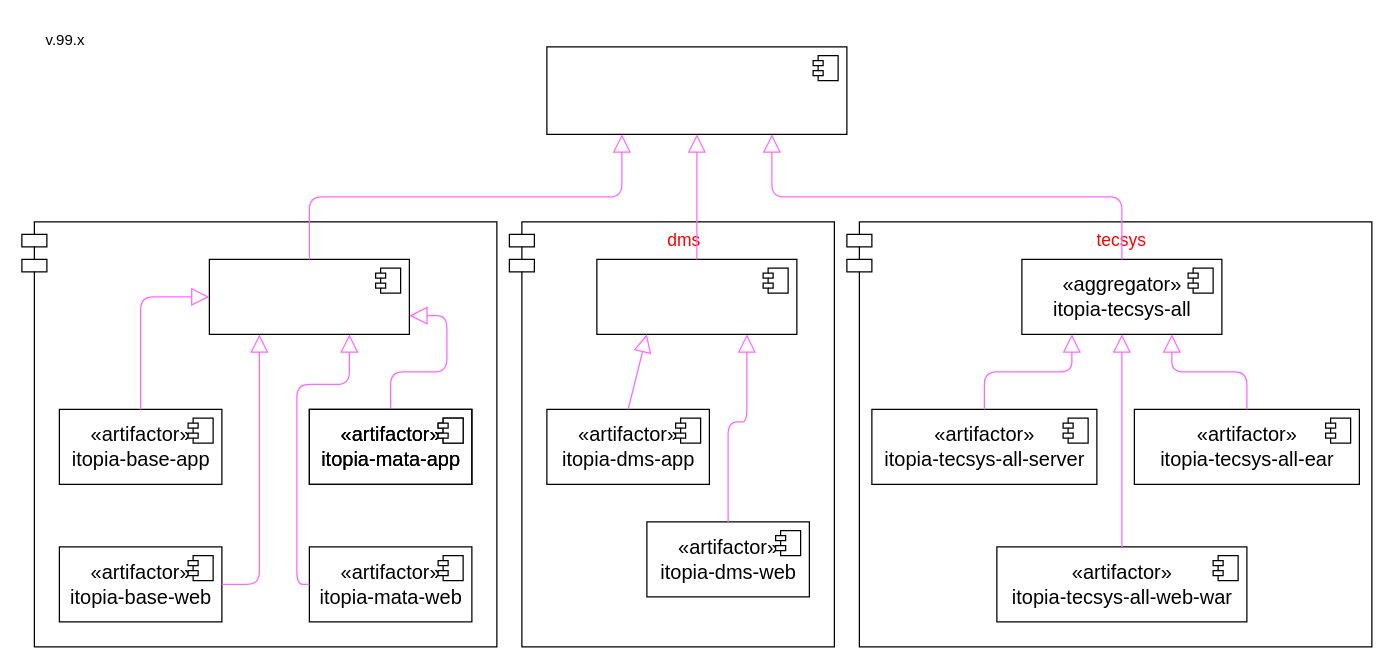
Some shapes in this 1394 by 669 pixel diagram are drawn without their labels. Here are the shapes that lost their labels. From the top down, the box of each, then its label:
(546, 46, 847, 134): «aggregator» tecsys-itopia-all
(208, 258, 409, 334): «aggregator» itopia-mata-all
(596, 258, 797, 334): «aggregator» itopia-dms-all
(21, 221, 497, 647): meta
